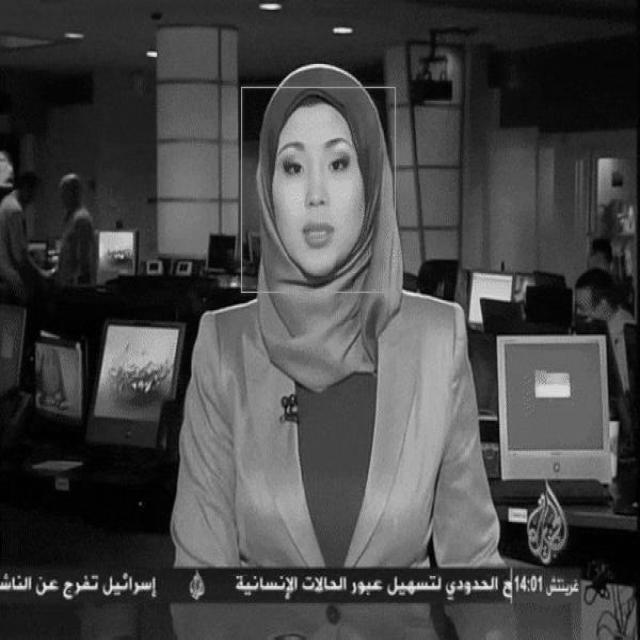fake: (241, 92, 396, 294)
